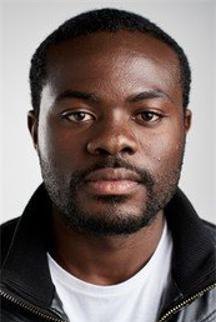Sober: (42, 44, 176, 214)
